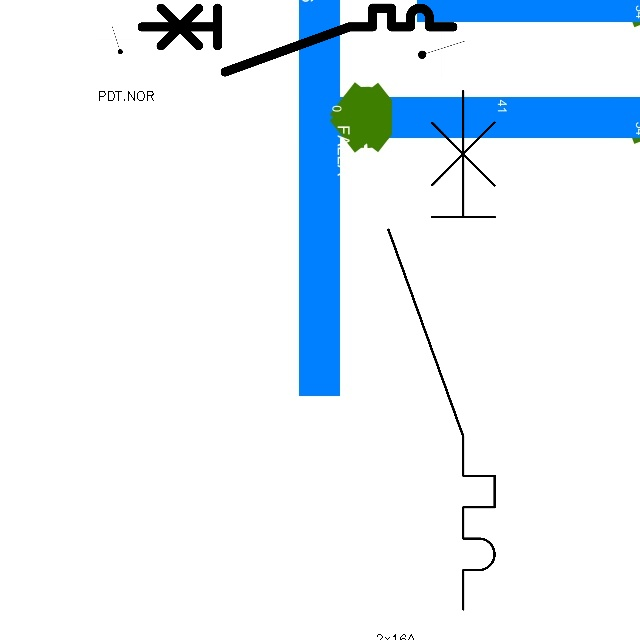interruptor_termomagnetico: (375, 77, 508, 622), (134, 0, 461, 80)
